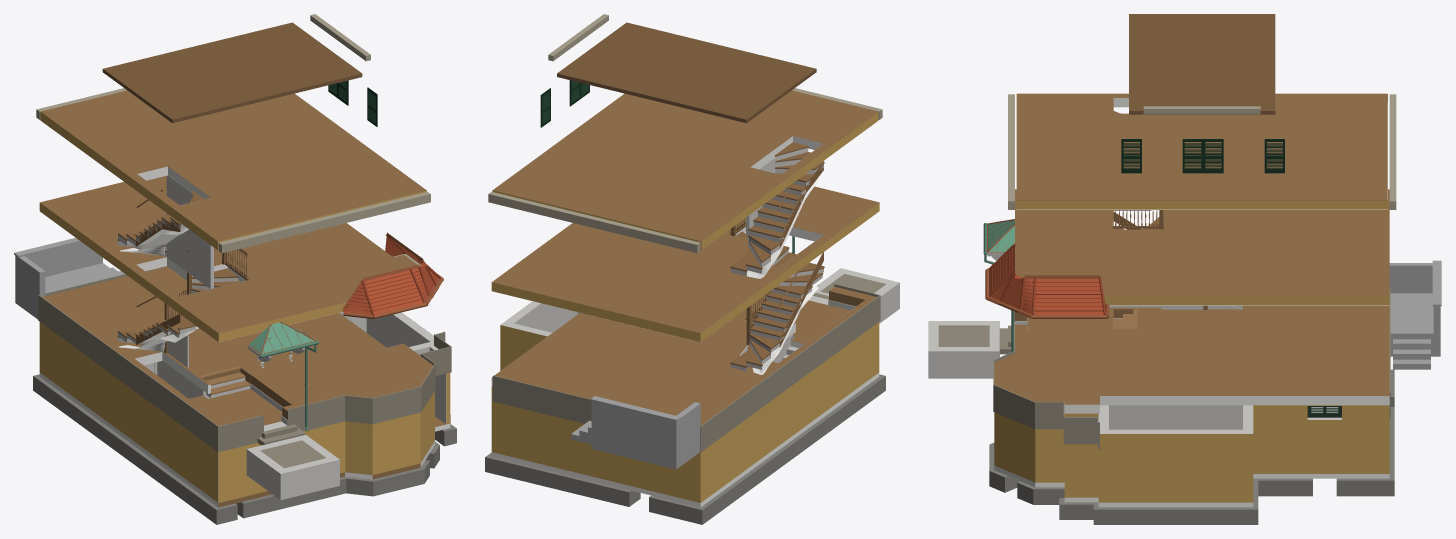
File: haus.glb
3 renders of one model, left to right at view 1: azimuth 30°, elevation 25°; view 2: azimuth 150°, elevation 25°; view 3: azimuth 270°, elevation 25°, orthographic. The views are drawn at different scales.
Parts seen in each view (by area): view 1: haus; view 2: haus; view 3: haus.
Boxes of the visible parts, x1,y1,x2,y2 form: haus: [14, 14, 456, 524]; haus: [485, 14, 899, 524]; haus: [928, 14, 1441, 524].
Bounding box in the file's own units: 9.72 × 12.56 × 15.07.
